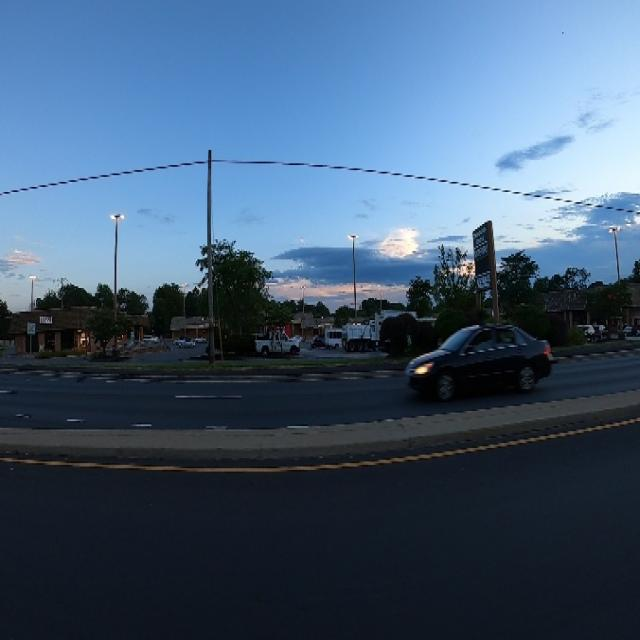cars: (398, 309, 557, 412), (251, 323, 304, 360), (342, 316, 378, 354), (324, 318, 349, 352), (573, 314, 596, 344), (590, 316, 610, 346), (138, 328, 160, 349), (310, 327, 325, 353), (190, 328, 208, 347), (622, 322, 635, 342), (172, 336, 190, 347)
